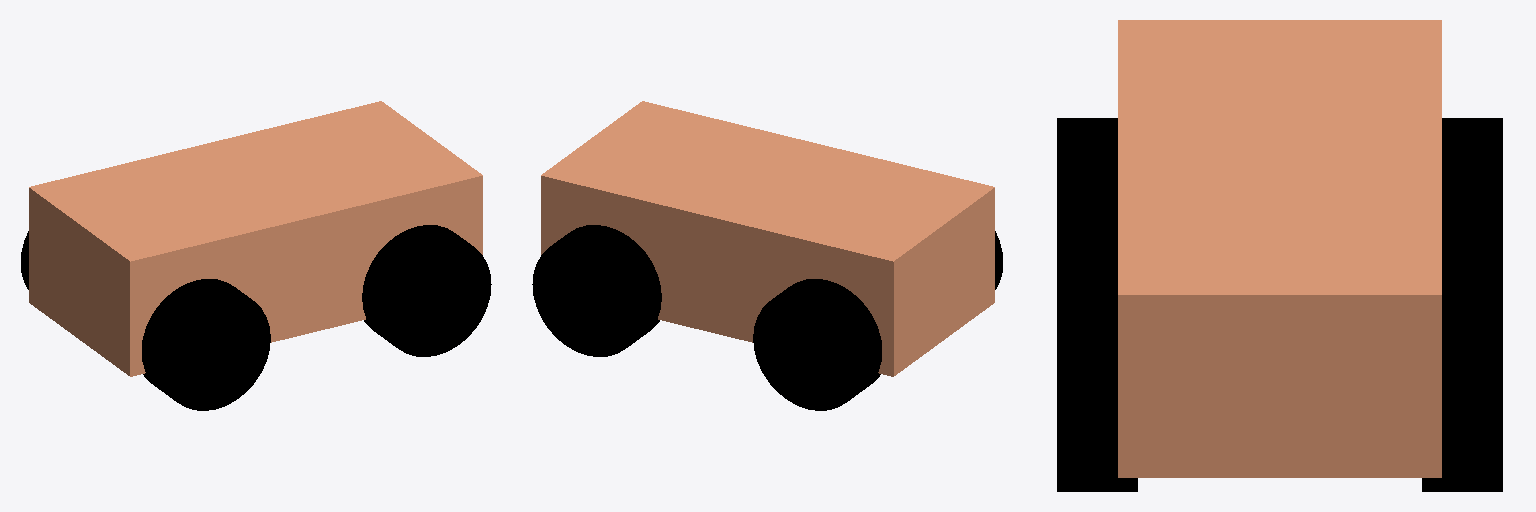
URDF robot description (lgp_car):
<?xml version="1.0"?>
<robot name="lgp_car">
  <!--link name="lgp_car"-->
  <link name="lgp_car">
    <visual>
      <origin rpy="0.0 0 0" xyz="0 0 0.075"/>
      <geometry>
        <!--mesh filename="package://control_tree_car/data/meshes/robot/model.sdf"/-->
        <box size="0.8 0.4 0.25" />
      </geometry>
	<material name='Orange'>
        <color rgba="0.95 0.67 0.52 1.0"/>
      </material>
    </visual>
    <visual>
    <origin rpy="0 1.5707 1.5707" xyz="0.25 -0.225 0."/>
		  <geometry>
		    <cylinder radius="0.125" length="0.1"/>
		  </geometry>
	<material name='Black'>
        <color rgba="0.0 0.0 0.0 1.0"/>
      </material>
	</visual>
	<visual>
    <origin rpy="0 1.5707 1.5707" xyz="0.25 0.225 0."/>
		  <geometry>
		    <cylinder radius="0.125" length="0.1"/>
		  </geometry>
	<material name='Black'>
      </material>
	</visual>
	    <visual>
    <origin rpy="0 1.5707 1.5707" xyz="-0.25 -0.225 0."/>
		  <geometry>
		    <cylinder radius="0.125" length="0.1"/>
		  </geometry>
	<material name='Black'>
      </material>
	</visual>
	<visual>
    <origin rpy="0 1.5707 1.5707" xyz="-0.25 0.225 0."/>
		  <geometry>
		    <cylinder radius="0.125" length="0.1"/>
		  </geometry>
	<material name='Black'>
      </material>

	</visual>

  </link>
</robot>

--- Facts derived from the render (not from the file) ---
3 views of the same robot in one strip: view 1: azimuth 30°, elevation 25°; view 2: azimuth 150°, elevation 25°; view 3: azimuth 270°, elevation 25° (orthographic).
Robot: lgp_car — 1 links, 0 joints (none); root link lgp_car; default pose: all joints at 0.
Visible links, largest first — view 1: lgp_car; view 2: lgp_car; view 3: lgp_car.
Link boxes in pixels (<box>): lgp_car: <box>21,101,491,410</box>; lgp_car: <box>532,101,1002,410</box>; lgp_car: <box>1057,20,1502,491</box>.
Size in the robot's own frame: 0.8 by 0.55 by 0.325 metres.
Geometry: primitives only (box / cylinder / sphere), no mesh files.